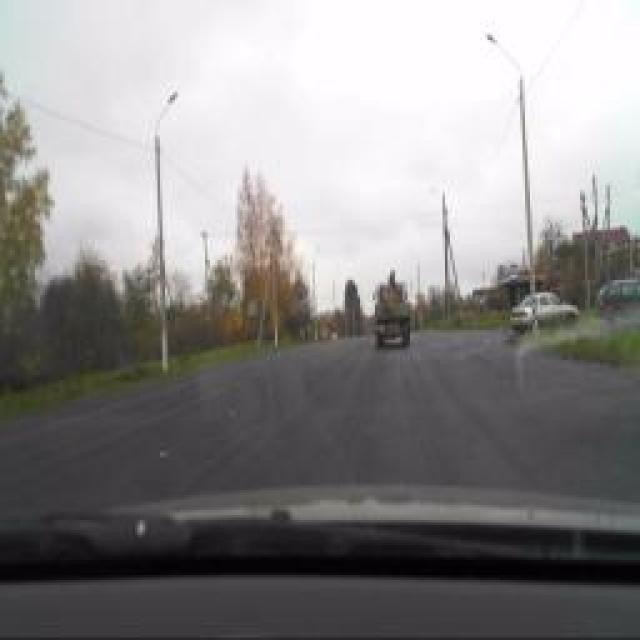sign: (509, 264, 519, 286)
